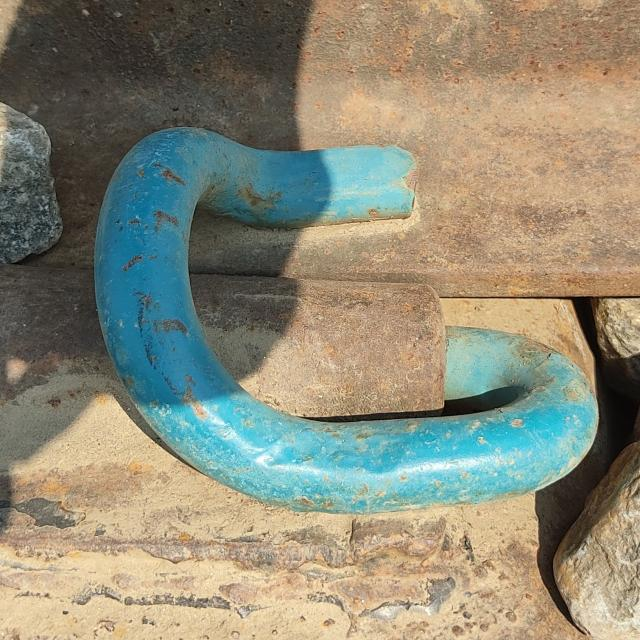track_bolt: (86, 118, 607, 520)
